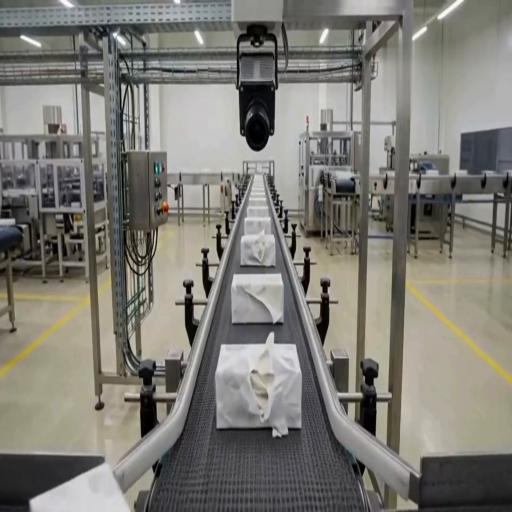defective: (215, 336, 301, 432), (230, 272, 286, 324), (240, 231, 276, 267)
good: (28, 461, 135, 510), (246, 178, 270, 206), (244, 217, 272, 236), (246, 205, 270, 219), (0, 217, 15, 226), (454, 170, 468, 176)
